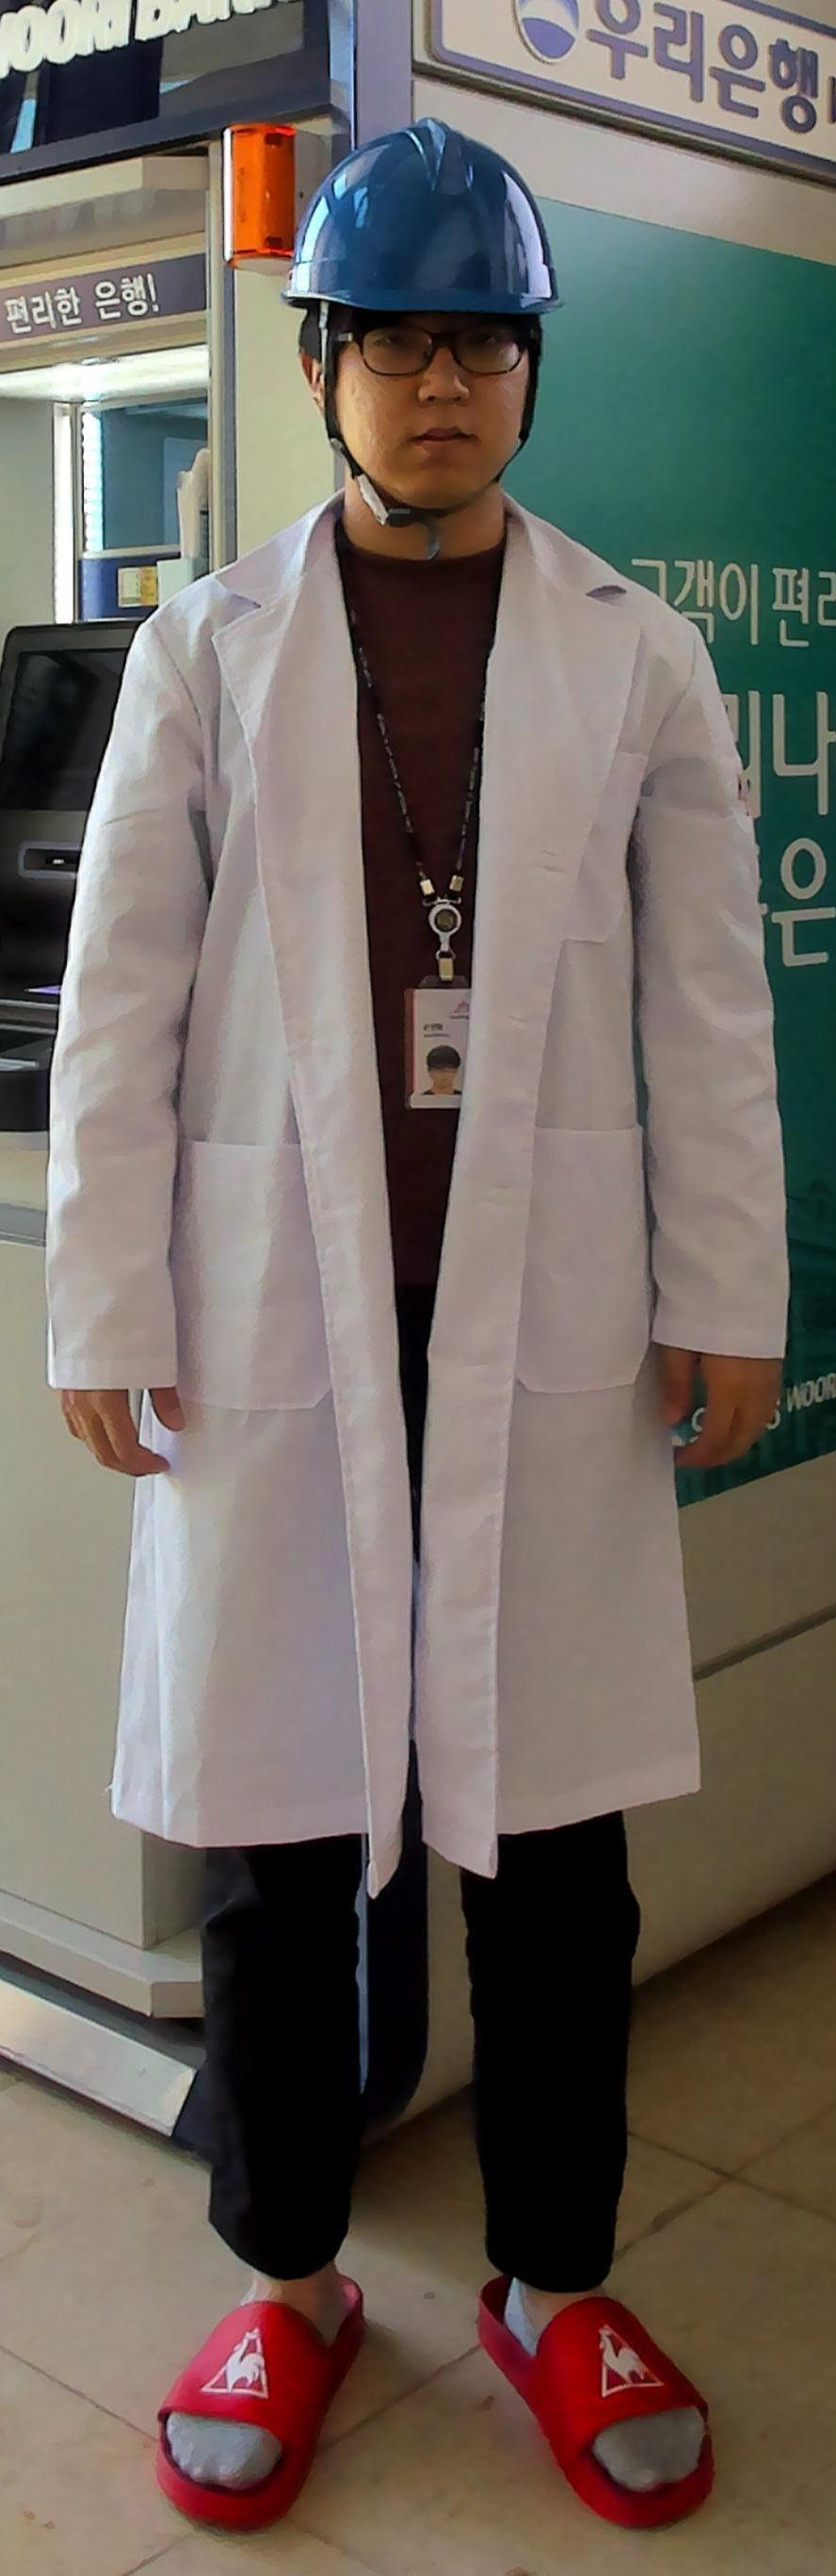lab_coat: (149, 595, 703, 1840)
